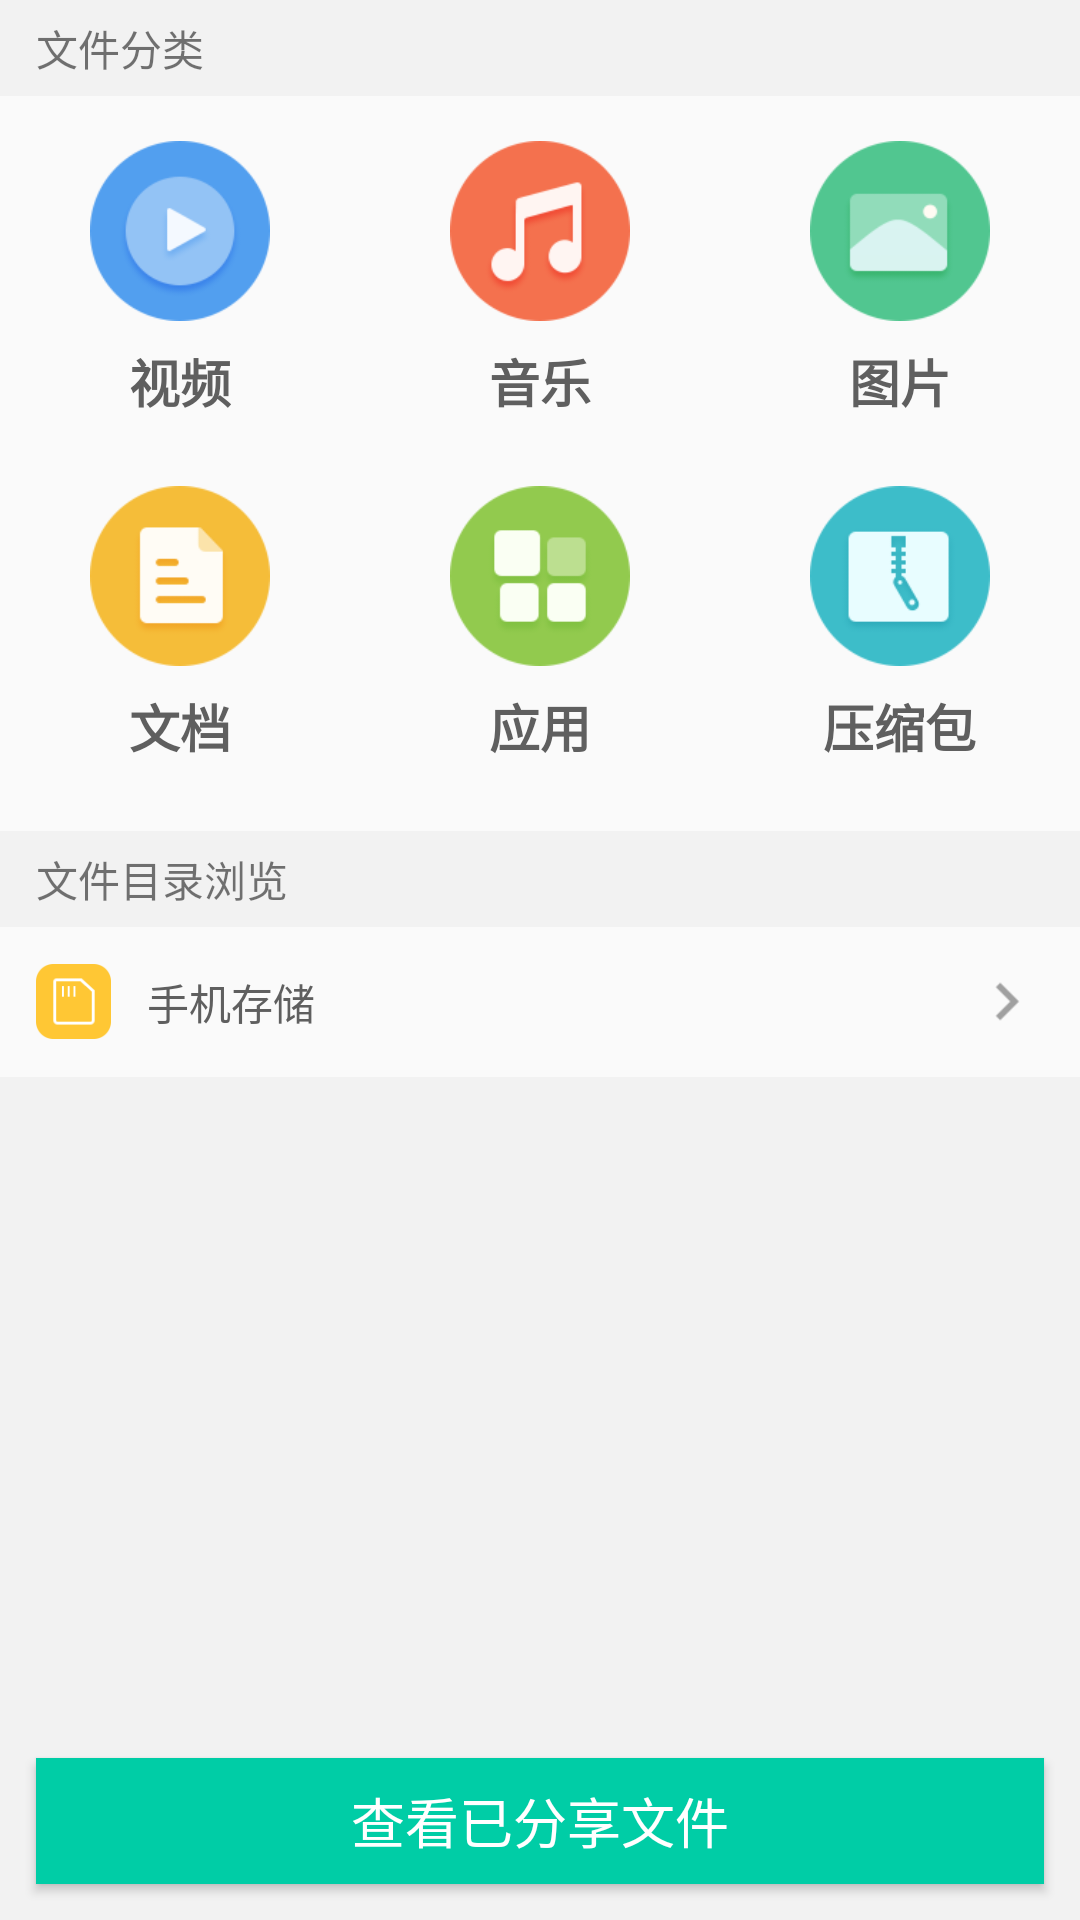

Icons on this 1080px×1920px Android screen, each with its box as (x1, y1, x2, y2):
classify sdcard: (36, 964, 111, 1039)
itemarrow: (996, 983, 1019, 1020)
